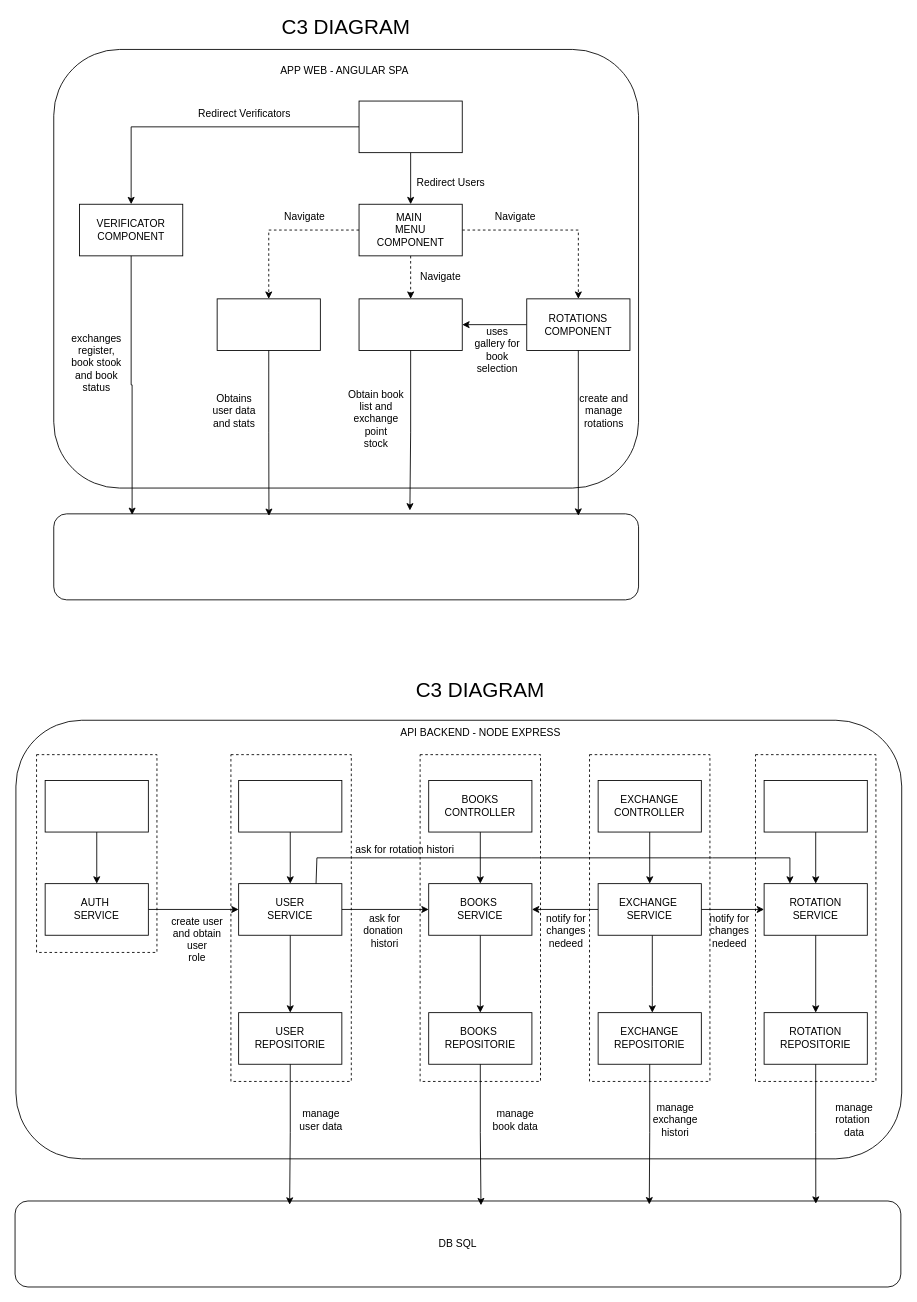
The diagram is 917 pixels wide and 1302 high, and some of its shapes have lost their labels. Here are the shapes that lost their labels. From the top down, the centre of each, then its label:
At [410,126]: "AUTH COMPONENT".
At [268,324]: "PROFILE COMPONENT".
At [410,324]: "GALLERY COMPONENT".
At [346,556]: "API BACKEND".
At [96,806]: "AUTH CONTROLLER".
At [290,806]: "USER CONTROLLER".
At [815,806]: "ROTATION CONTROLLER".
